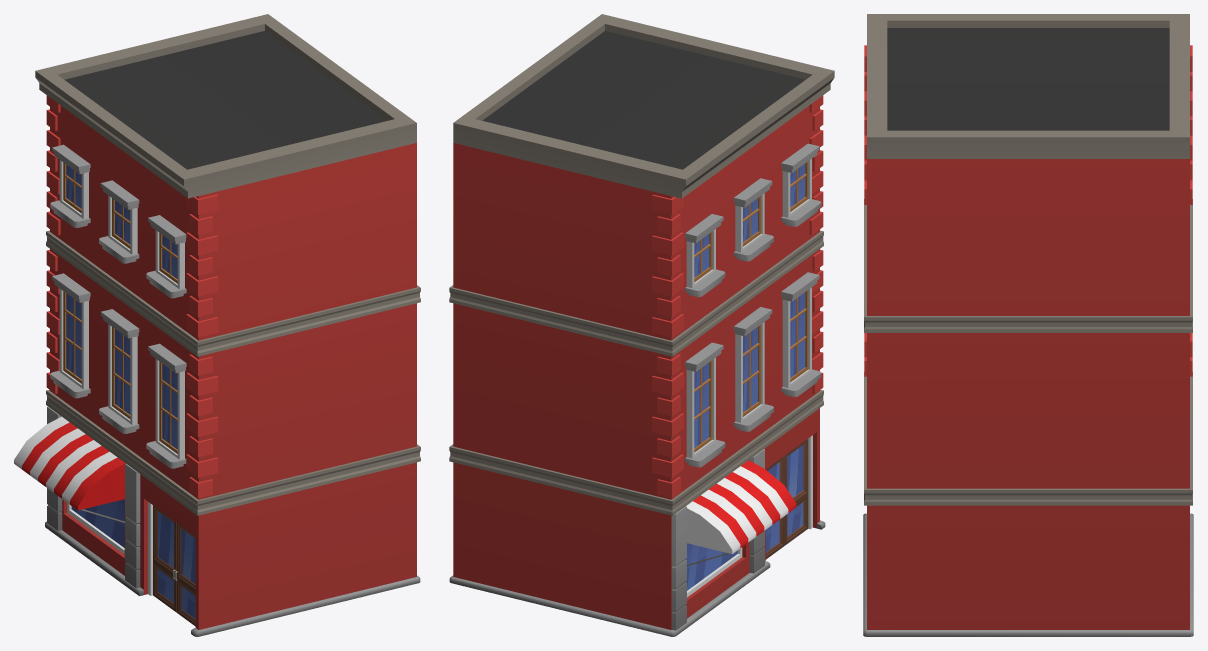
Rendered from Building_8_1_I.glb.
3 views of the same model, side by side, from view 1: azimuth 30°, elevation 25°; view 2: azimuth 150°, elevation 25°; view 3: azimuth 270°, elevation 25° (orthographic). The views are drawn at different scales.
Parts seen in each view (by area): view 1: Building 8_1_I; view 2: Building 8_1_I; view 3: Building 8_1_I.
Boxes of the visible parts, x1=… form: Building 8_1_I: x1=14, y1=14, x2=420, y2=636; Building 8_1_I: x1=449, y1=14, x2=834, y2=636; Building 8_1_I: x1=863, y1=14, x2=1193, y2=636.
Size of the model in its own units: 6.81 by 11.08 by 6.67.
Materials: 3 (3 with a texture image).
